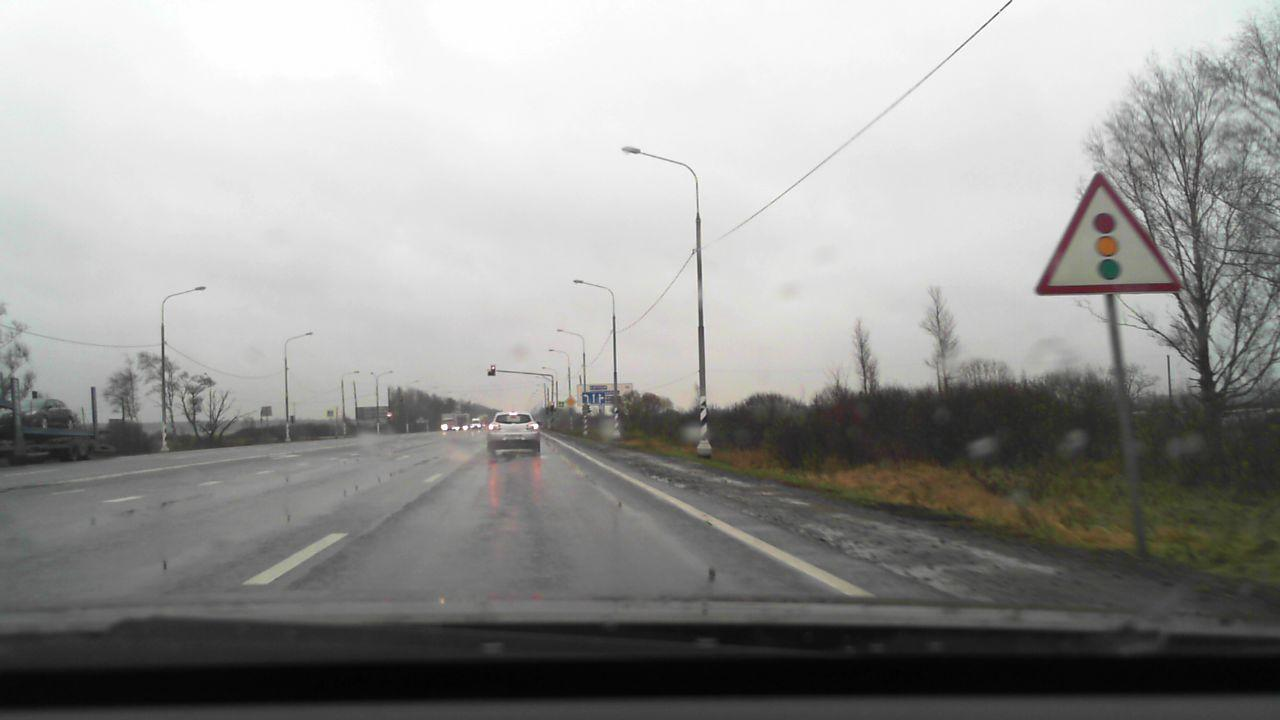1_8: (1036, 172, 1183, 295)
2_1: (564, 394, 577, 409)
5_15_1: (581, 392, 609, 404)
